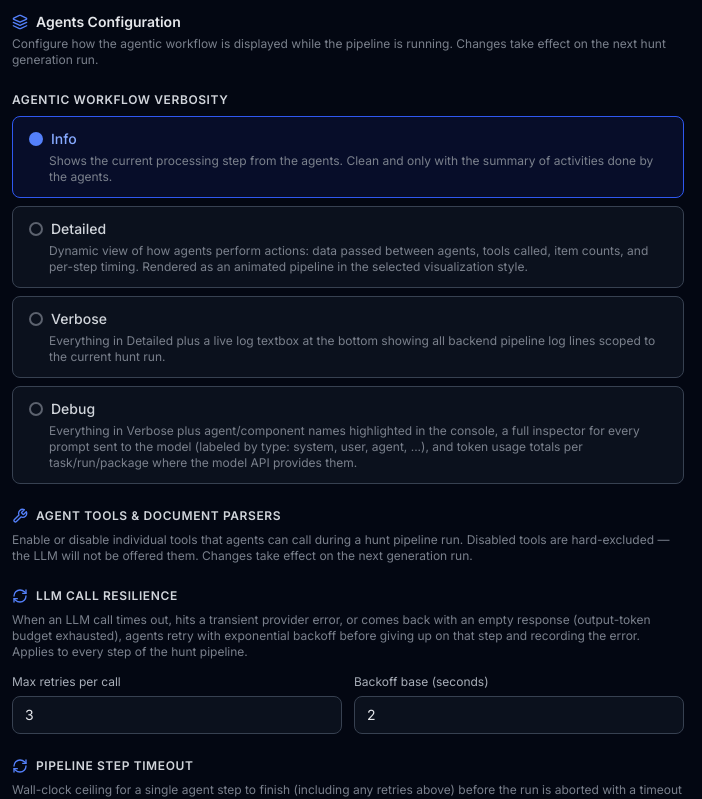
Test: AgentsConfigTab › shows visualization selector after clicking Verbose
Click the text "Verbose" at (79, 319), box [51,309,107,329]
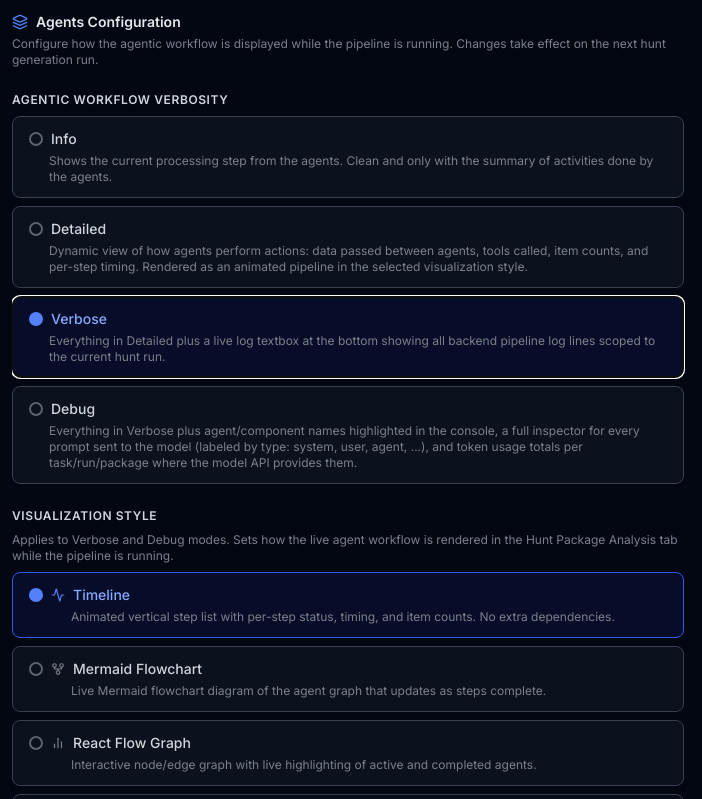
Expected: the text "Visualization Style" is shown, [12,508,157,523]
